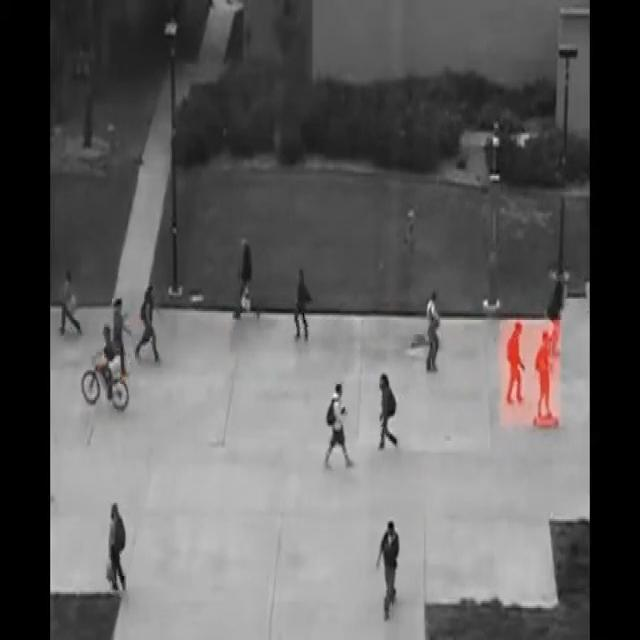anamoly: (79, 297, 155, 409), (513, 315, 564, 437)
